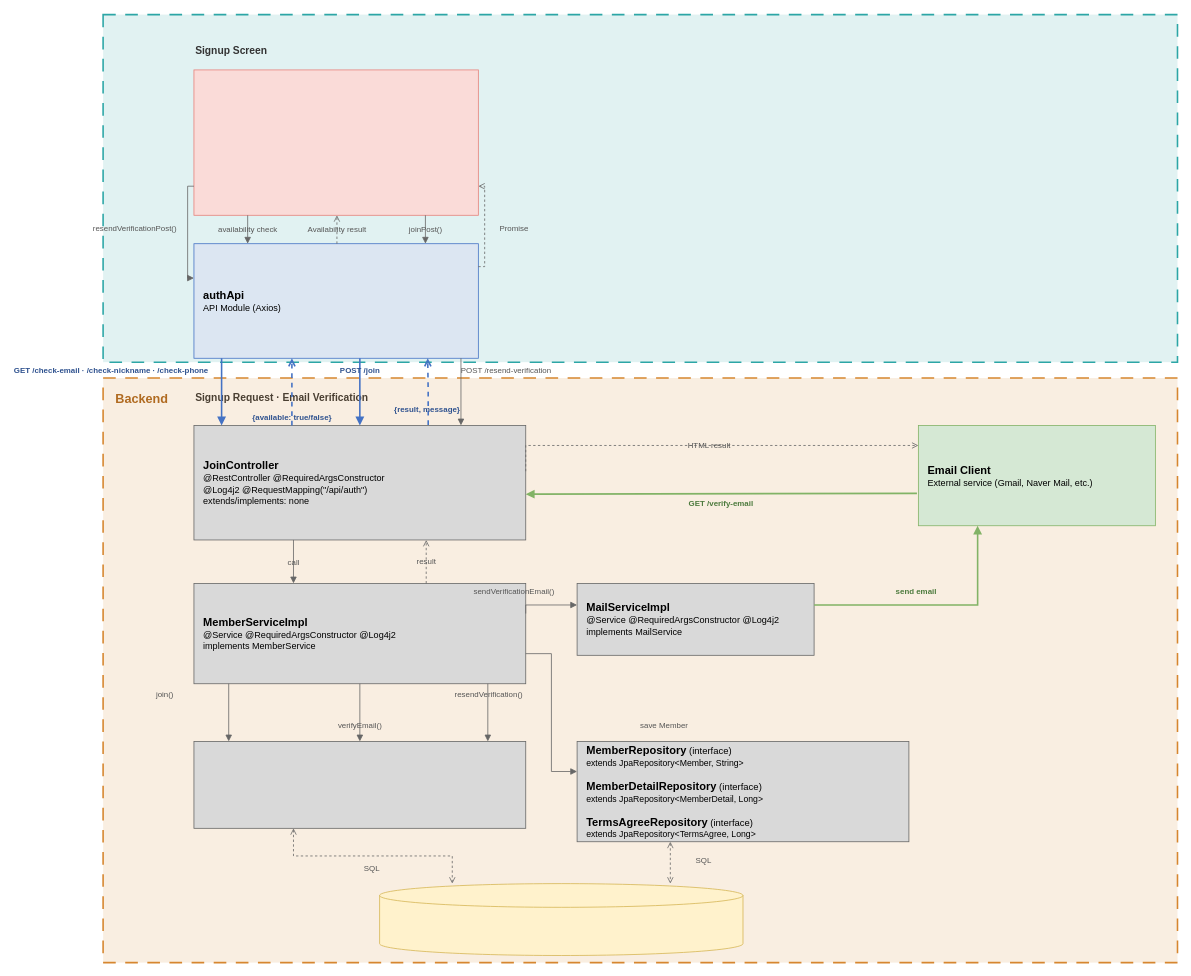
Some shapes in this 1191 by 976 pixel diagram are drawn without their labels. Here are the shapes that lost their labels. From the top down, the box of each, then its label:
(193, 69, 478, 215): JoinComponent React Component
(102, 13, 1178, 363): Frontend
(193, 741, 526, 828): EmailVerifyRepository (interface) extends JpaRepository<EmailVerify, Long>
(379, 883, 743, 956): MariaDB member · tbl_member_detail · tbl_terms_agree · tbl_email_verify
